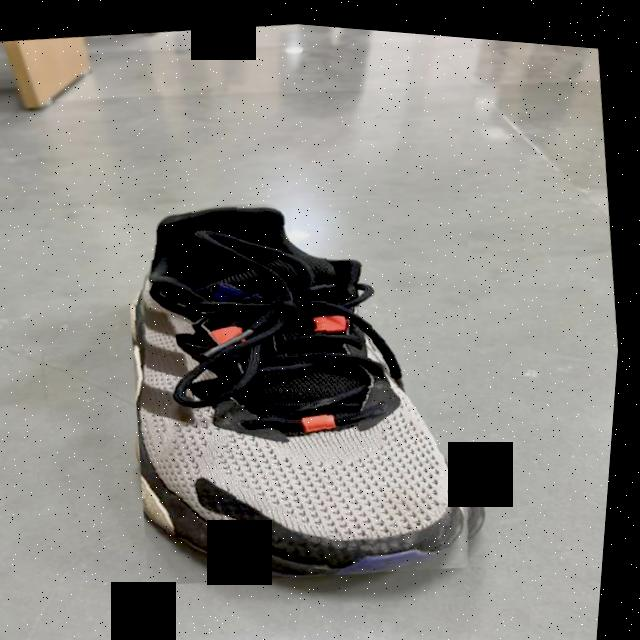shoe: (105, 158, 522, 605)
